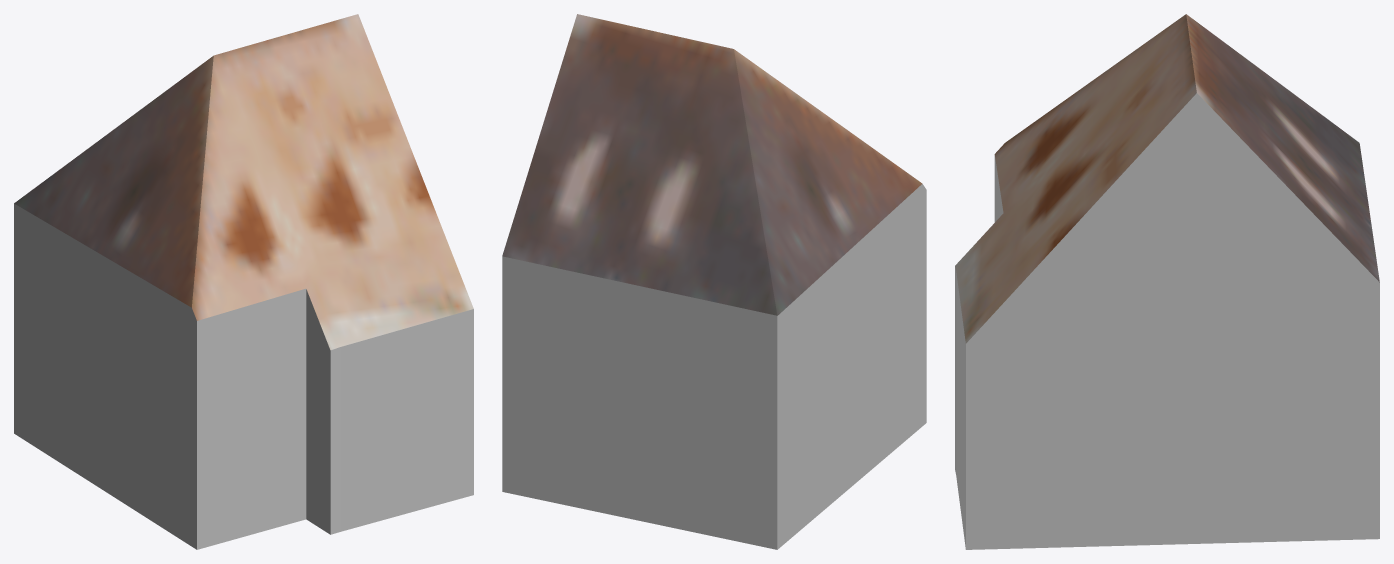
Rendered from DEBW_0010007TxdT.gltf.
The picture shows the model from 3 angles, left to right: view 1: azimuth 30°, elevation 25°; view 2: azimuth 150°, elevation 25°; view 3: azimuth 270°, elevation 25°; orthographic projection. The views are drawn at different scales.
Parts seen in each view (by area): view 1: Z_UP; view 2: Z_UP; view 3: Z_UP.
Boxes of the visible parts, x1,y1,x2,y2 form: Z_UP: [14, 14, 473, 549]; Z_UP: [502, 14, 926, 549]; Z_UP: [955, 14, 1379, 549].
Bounding box in the file's own units: 9.66 × 13.34 × 11.39.
Materials: 2 (1 with a texture image).
